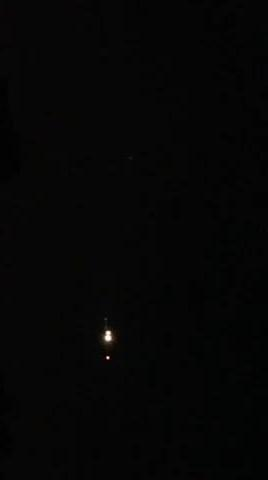Plane: (85, 294, 131, 383)
